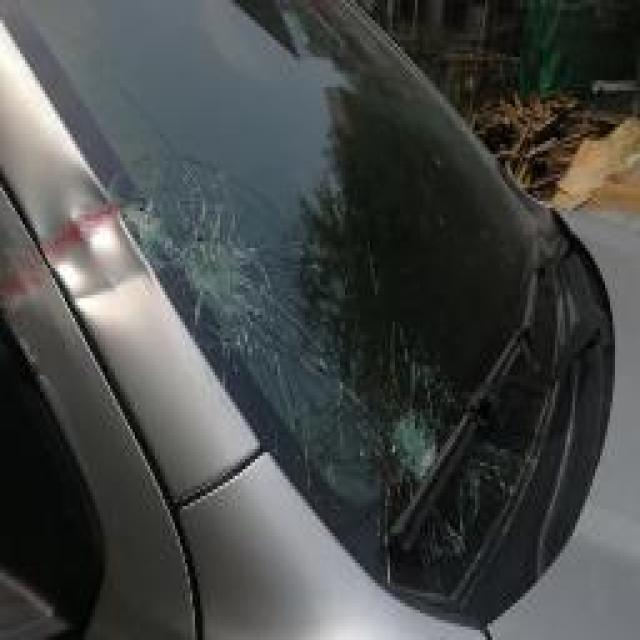Fender: (0, 161, 130, 379)
Windshield: (125, 121, 545, 613)
